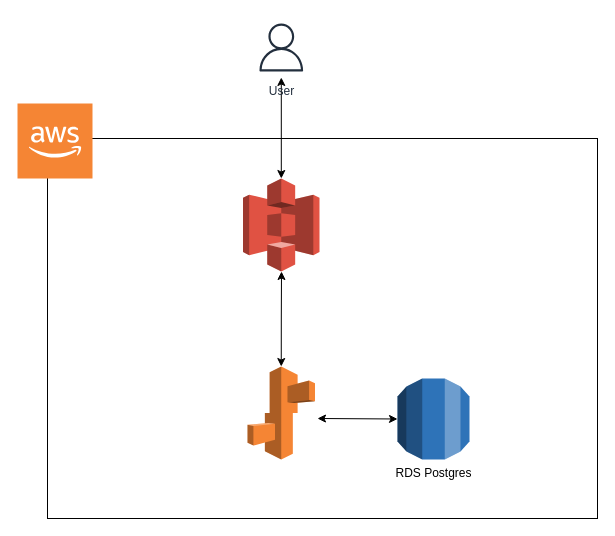
This 615x536 diagram has some shape labels left out. The shapes that lost their labels are listed below. From the top down, each one's centre as x and y in pixels, then its label:
(x=281, y=225): Angular on S3
(x=280, y=413): Nodejs on Elastic Beanstalk
